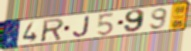4: (22, 20, 39, 43)
5: (96, 11, 116, 37)
9: (123, 8, 148, 34), (148, 7, 169, 30)
J: (72, 15, 91, 38)
R: (41, 17, 65, 43)
